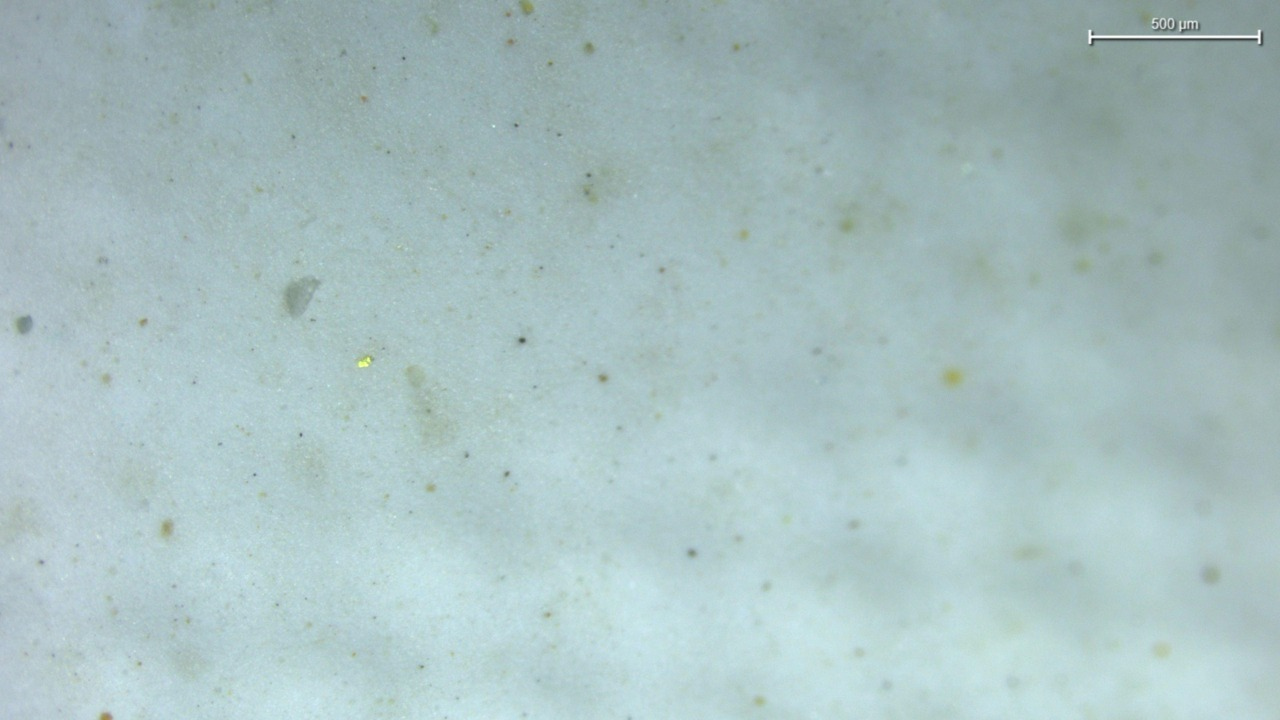microplastic_fragment: (283, 277, 321, 318), (357, 355, 373, 367)
